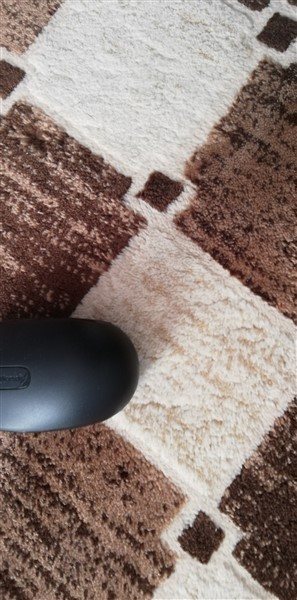mouse: (1, 311, 141, 436)
